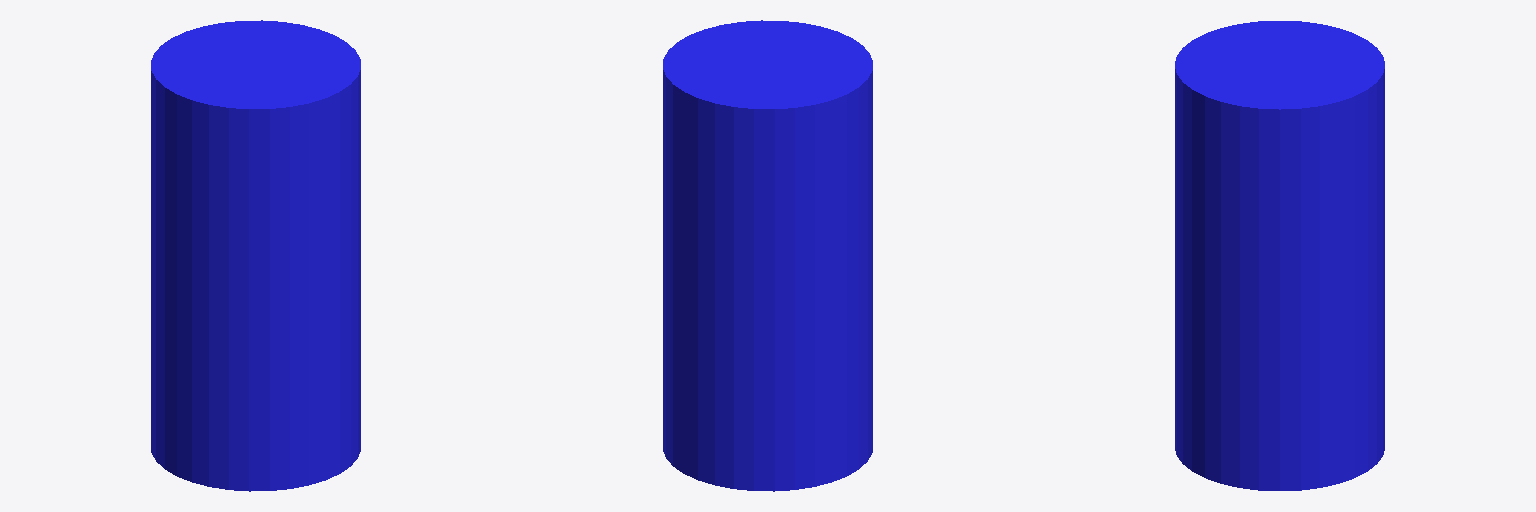
robot.urdf — water_bottle:
<?xml version="1.0"?>
<robot name="water_bottle">

  <link name="base_link">
    <inertial>
      <mass value="0.5"/>
      <origin rpy="0 0 0" xyz="0 0 0"/>
      <inertia ixx="0.001" ixy="0" ixz="0" iyy="0.001" iyz="0" izz="0.002"/>
    </inertial>
    <visual>
      <geometry>
        <cylinder radius="0.05" length="0.2"/>
      </geometry>
      <origin rpy="0 0 0" xyz="0 0 0"/>
      <material name="blue">
        <color rgba="0.2 0.2 1 1"/>
      </material>
    </visual>
    <collision>
      <geometry>
        <cylinder radius="0.05" length="0.2"/>
      </geometry>
      <origin rpy="0 0 0" xyz="0 0 0"/>
    </collision>
  </link>

</robot>
    

--- What the picture shows (computed from the rendered views, not written in the file) ---
The picture shows the robot from 3 angles, left to right: view 1: azimuth 30°, elevation 25°; view 2: azimuth 150°, elevation 25°; view 3: azimuth 270°, elevation 25°; orthographic projection.
Model water_bottle with 1 links and 0 joints (none), rooted at base_link, posed every joint at zero.
Links seen in each view (by area): view 1: base_link; view 2: base_link; view 3: base_link.
Boxes of the visible links, x1=… form: base_link: x1=151, y1=20, x2=360, y2=491; base_link: x1=663, y1=20, x2=872, y2=491; base_link: x1=1175, y1=21, x2=1384, y2=490.
Size in the robot's own frame: 0.1 by 0.1 by 0.2 metres.
Geometry: primitives only (box / cylinder / sphere), no mesh files.